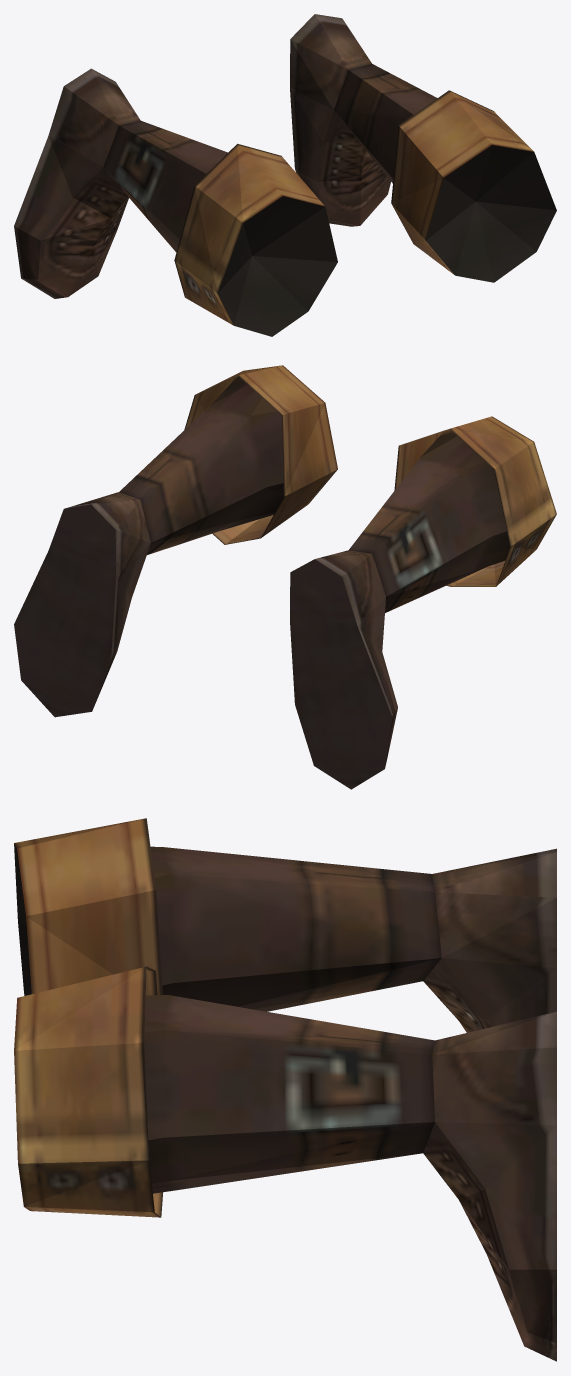
The model's file is robber_shoe_male_45000.obj.
3 views of the same model, one above another, from view 1: azimuth 30°, elevation 25°; view 2: azimuth 150°, elevation 25°; view 3: azimuth 270°, elevation 25° (orthographic). The views are drawn at different scales.
Parts seen in each view (by area): view 1: robber_shoe_male_45000; view 2: robber_shoe_male_45000; view 3: robber_shoe_male_45000.
Boxes of the visible parts, left/top/right/bottom form: robber_shoe_male_45000: left=14, top=14, right=556, bottom=336; robber_shoe_male_45000: left=14, top=365, right=556, bottom=789; robber_shoe_male_45000: left=14, top=818, right=556, bottom=1361.
Size of the model in its own units: 27.38 by 17.28 by 23.3.
Materials: 1 (1 with a texture image).
